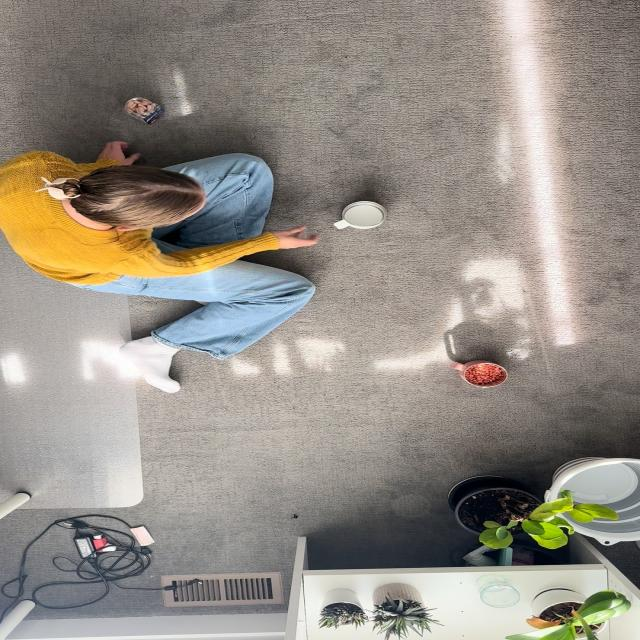IBC: (451, 360, 505, 387), (334, 201, 386, 229)
